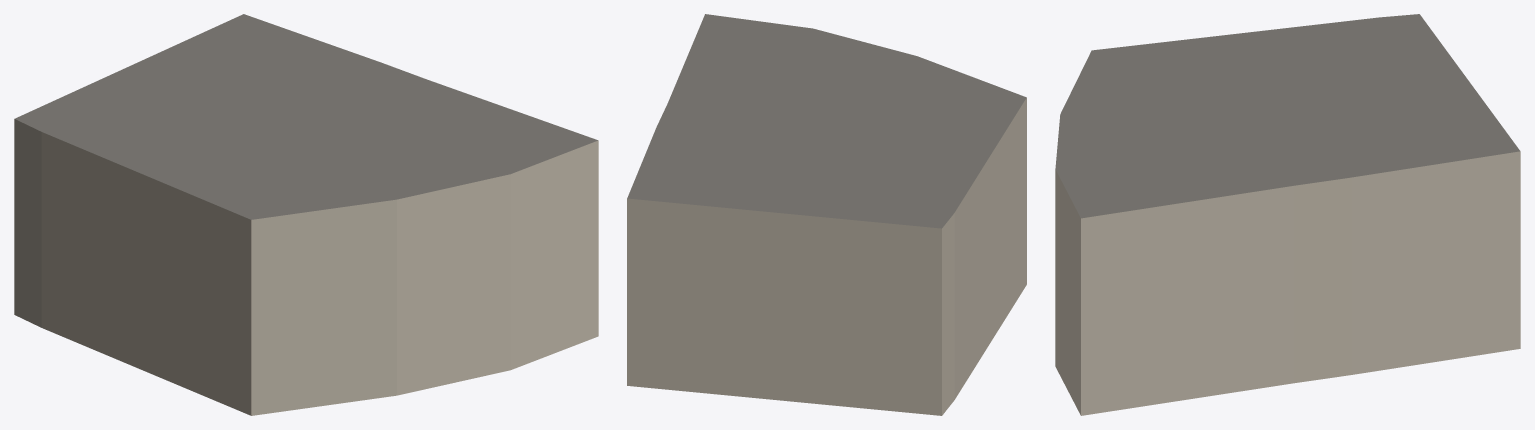
3 renders of one model, left to right at view 1: azimuth 30°, elevation 25°; view 2: azimuth 150°, elevation 25°; view 3: azimuth 270°, elevation 25°, orthographic. The views are drawn at different scales.
Parts seen in each view (by area): view 1: HP-w1197020934; view 2: HP-w1197020934; view 3: HP-w1197020934.
Boxes of the visible parts, <box> form: HP-w1197020934: <box>14,14,598,415</box>; HP-w1197020934: <box>627,14,1026,415</box>; HP-w1197020934: <box>1055,14,1520,415</box>.
Size of the model in its own units: 26.64 by 12 by 25.61.
